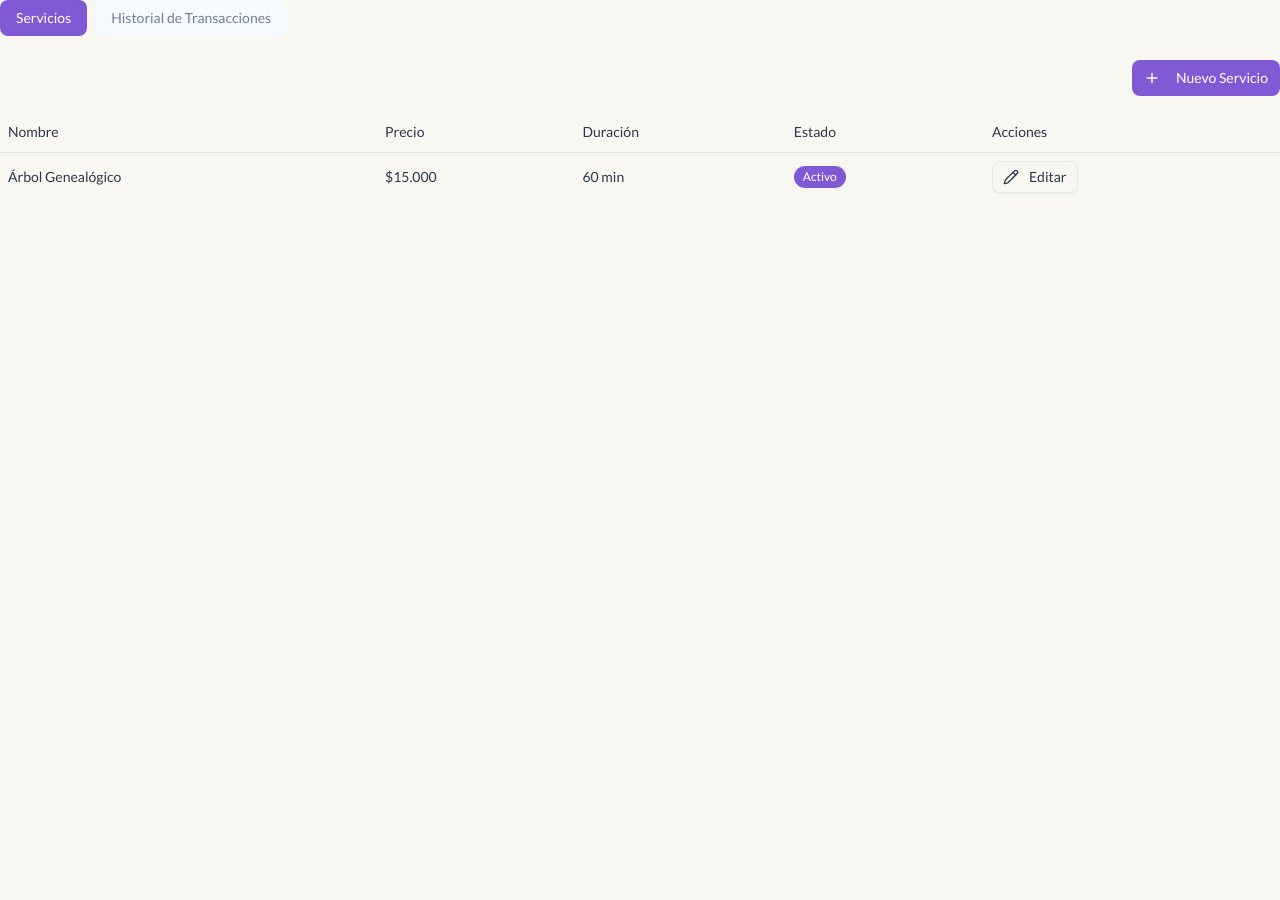
Test: HolisticServicesManagement › should open EditServiceModal when edit button is clicked
Click the button "Editar" at (1035, 176), box [992,160,1078,192]
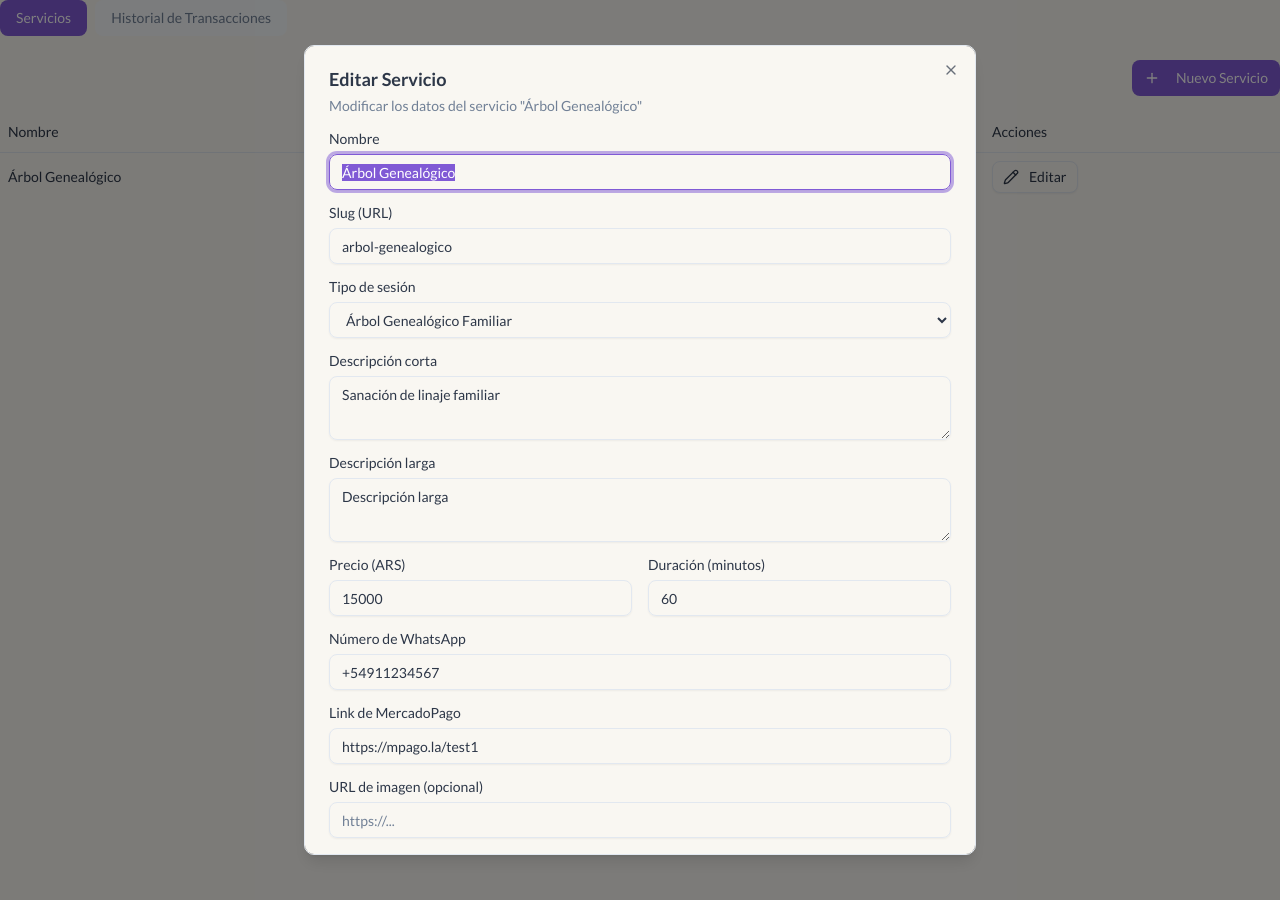
Result: the dialog is shown at [304,45,976,855]
